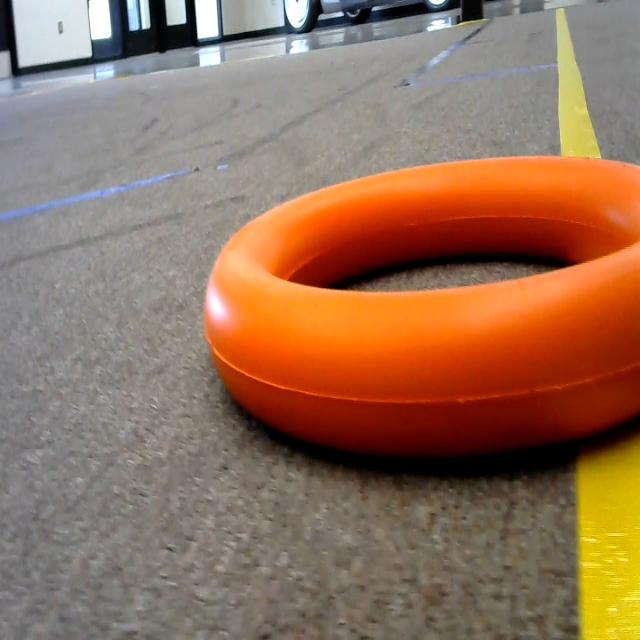note: (196, 157, 640, 499)
